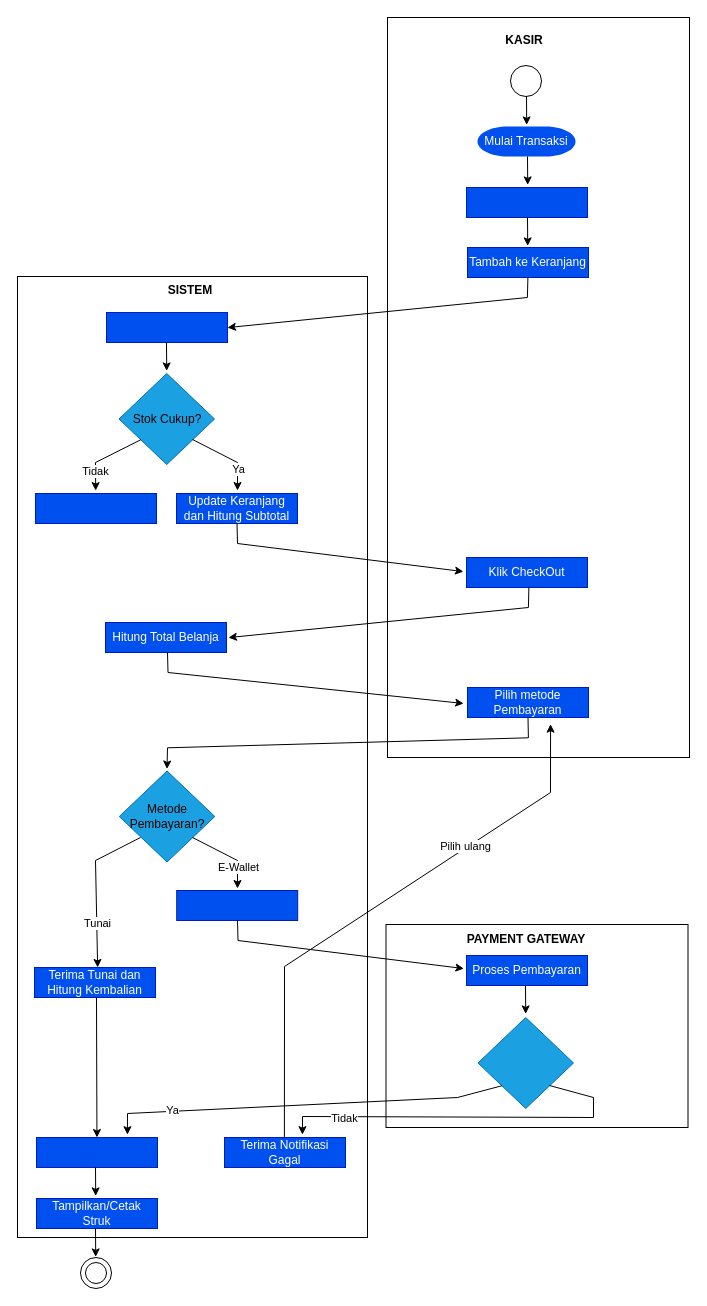
Some shapes in this 707 by 1306 pixel diagram are drawn without their labels. Each missing label, with the centre of its shape:
"Cek Stok Produk" belongs at pixel 167 327.
"Input/Scan Produk" belongs at pixel 527 202.
"Kirim Permintaan Pembayaran" belongs at pixel 237 905.
"Saldo Cukup?" belongs at pixel 525 1062.
"Simpan Transaksi" belongs at pixel 97 1152.
"Tampilkan Pesan : Stok Habis" belongs at pixel 95 508.
